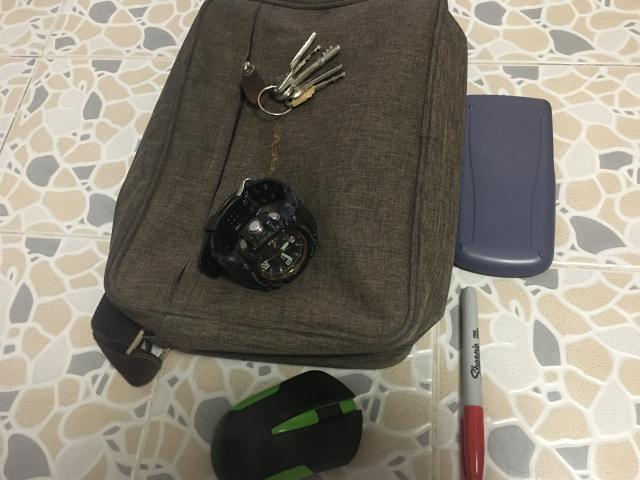Keys: (258, 34, 342, 118)
Mouse: (211, 370, 362, 479)
Pen: (460, 288, 484, 479)
Watch: (199, 179, 318, 290)
